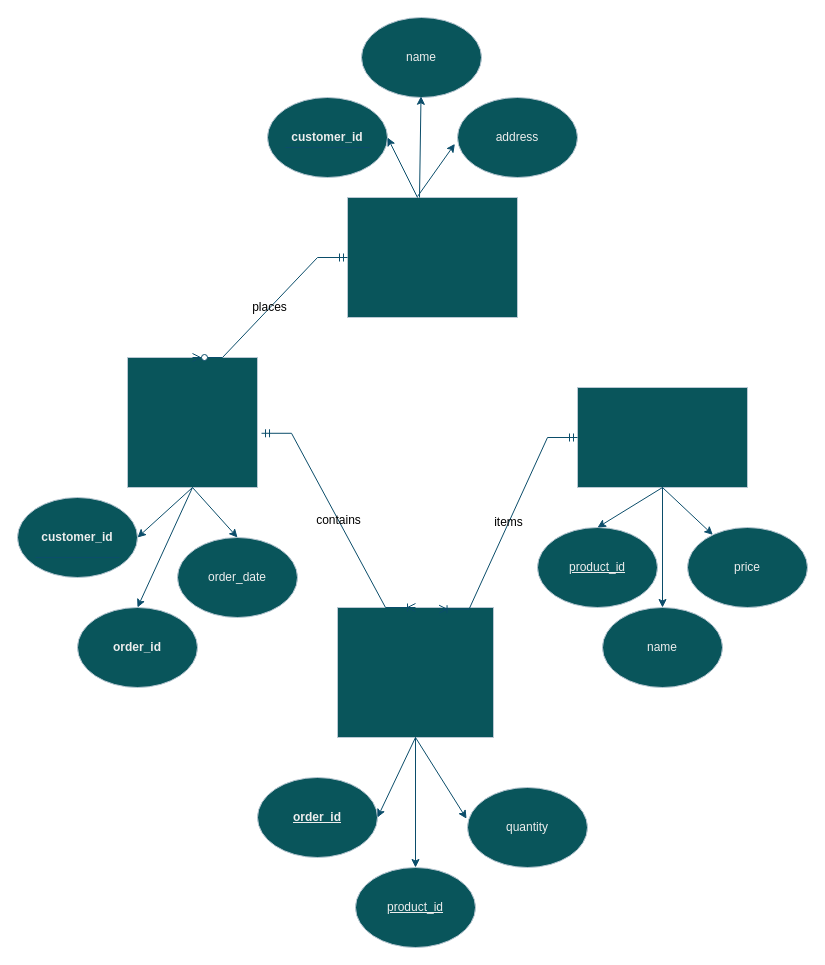
Some shapes in this 825 by 965 pixel diagram are drawn without their labels. Here are the shapes that lost their labels. From the top down, the centre of each, then its label:
[432,257]: customer
[192,422]: order
[662,437]: product
[415,672]: order_detail
